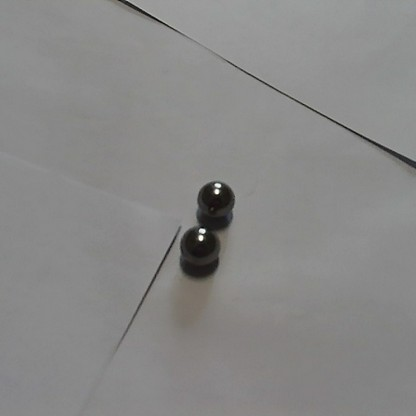ironball: (177, 226, 223, 270), (192, 178, 238, 220)
